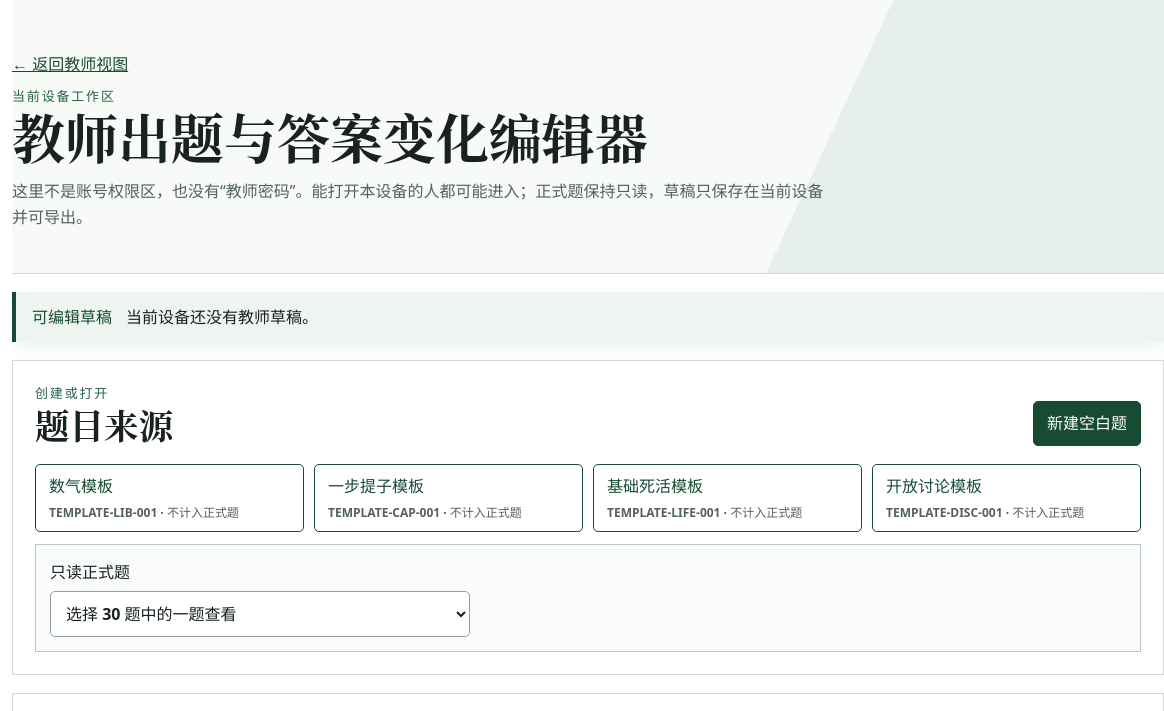
T14 teacher editor UI boundaries › opens official content read-only and requires a deliberate copy or revision
Select "LIB-001 · 中央单子的四周" in the dropdown labelled "只读正式题" at (260, 614), box [50,591,470,637]
(page scrolled)
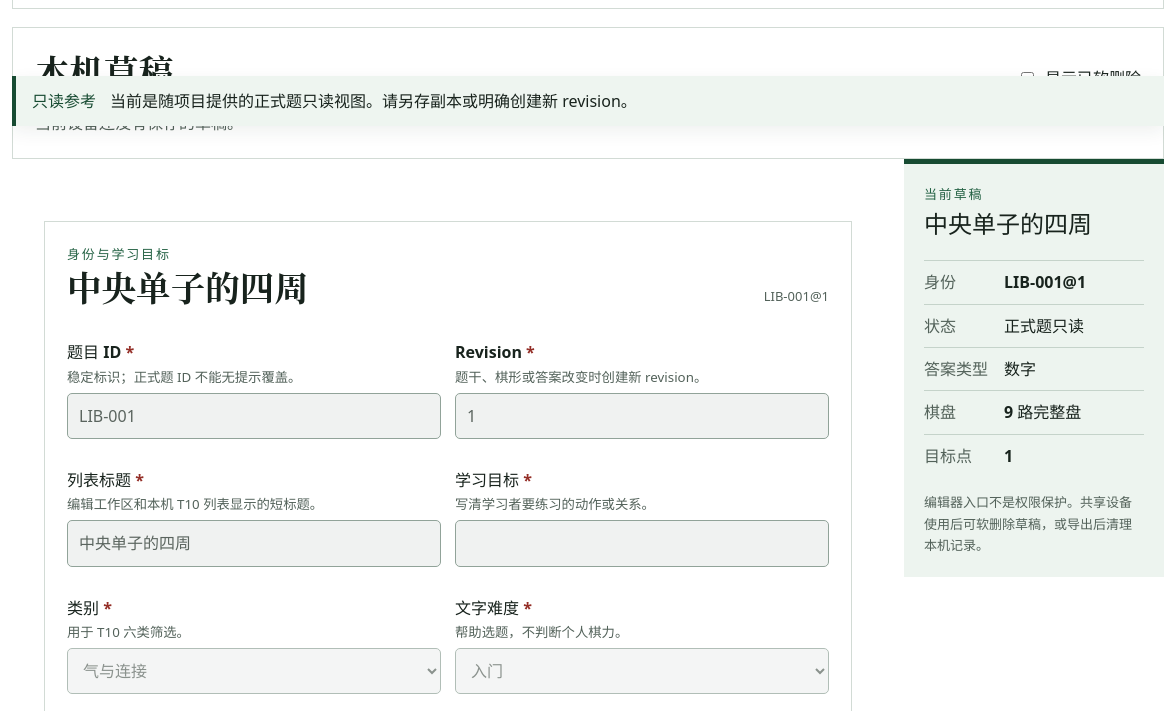
Result: the text "正式题只读视图" is shown at [110,89,637,111]
Result: the field labelled "题目 ID * 稳定标识；正式题 ID 不能无提示覆盖。" is disabled at [67,392,441,439]
Result: the text "明确创建新 revision" is shown at [110,89,637,111]
